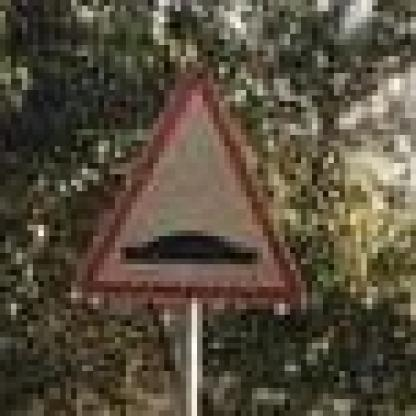Speed Breaker Ahead: (66, 51, 307, 302)
